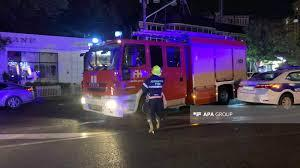Fire-engine: (80, 15, 250, 114)
